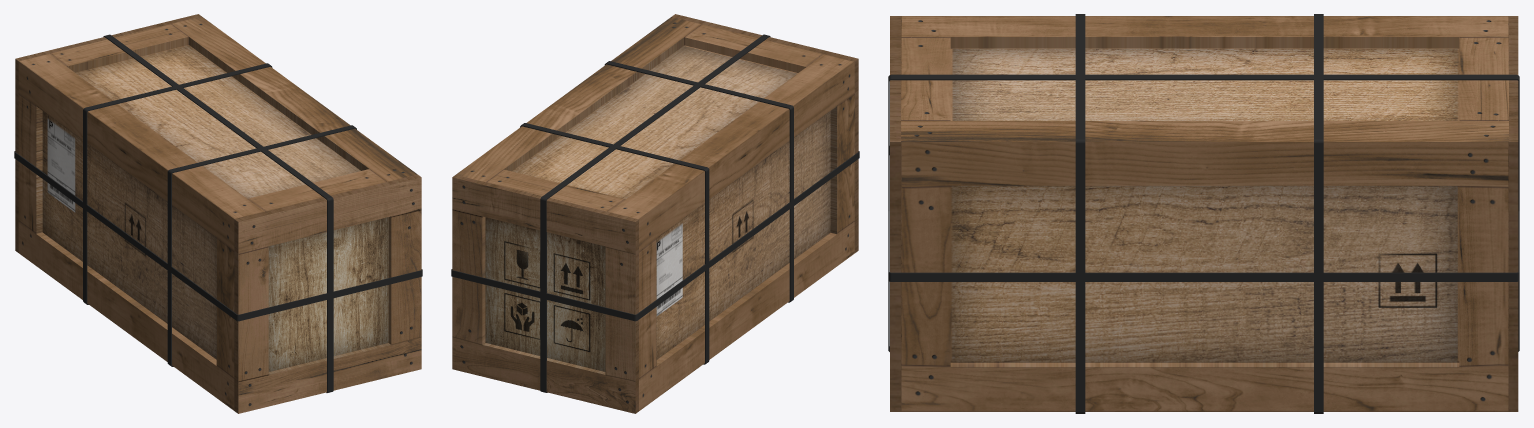
File: caja.glb
3 renders of one model, left to right at view 1: azimuth 30°, elevation 25°; view 2: azimuth 150°, elevation 25°; view 3: azimuth 270°, elevation 25°, orthographic. The views are drawn at different scales.
Parts seen in each view (by area): view 1: Cube.006_0, Cube.009_1; view 2: Cube.006_0, Cube.009_1; view 3: Cube.006_0, Cube.009_1.
Part boxes in pixels (x1=…): Cube.006_0: x1=15, y1=14, x2=421, y2=413; Cube.009_1: x1=14, y1=34, x2=422, y2=392; Cube.006_0: x1=452, y1=14, x2=858, y2=413; Cube.009_1: x1=451, y1=34, x2=859, y2=392; Cube.006_0: x1=890, y1=16, x2=1518, y2=411; Cube.009_1: x1=888, y1=14, x2=1519, y2=413.
Bounding box in the file's own units: 0.6747 × 0.676 × 1.41.
Materials: 2 (1 with a texture image).
